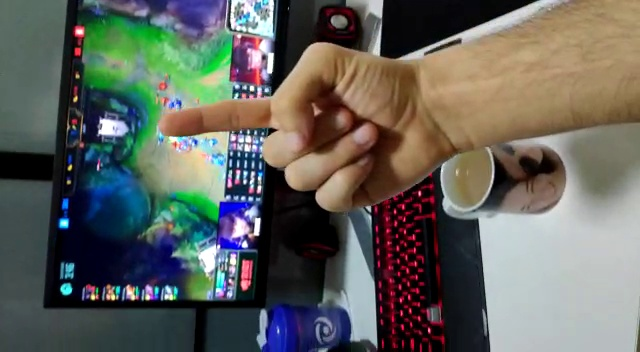One: (153, 35, 413, 210)
